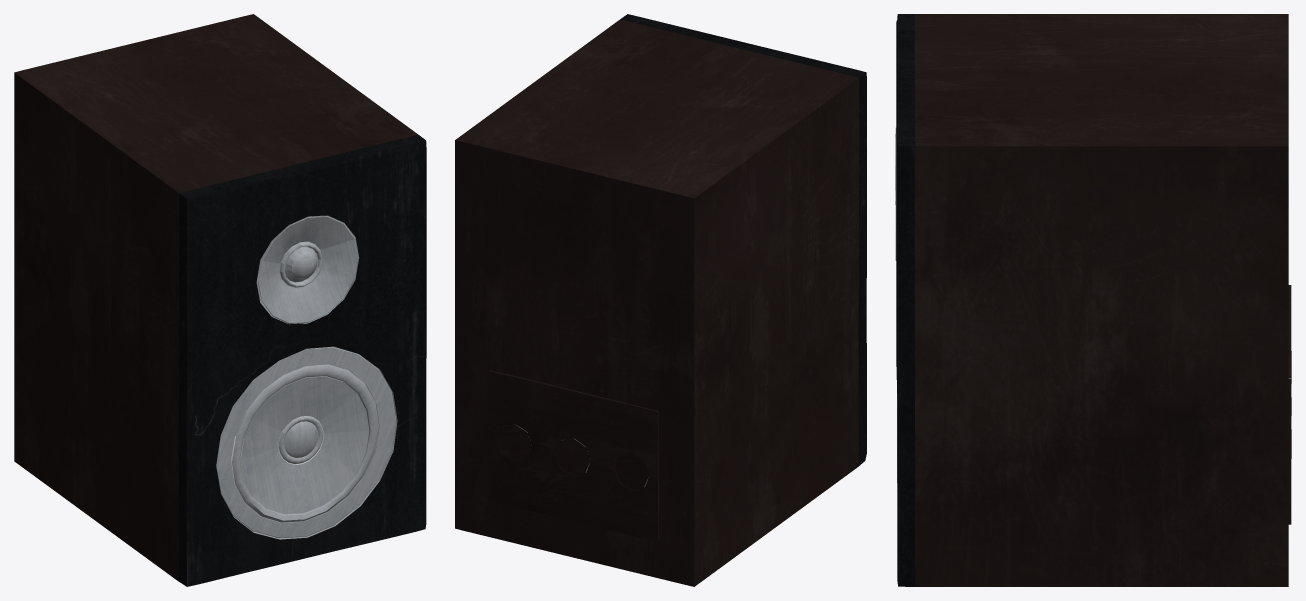
Rendered from Parlante 1.fbx.
The picture shows the model from 3 angles, left to right: view 1: azimuth 30°, elevation 25°; view 2: azimuth 150°, elevation 25°; view 3: azimuth 270°, elevation 25°; orthographic projection. The views are drawn at different scales.
Parts seen in each view (by area): view 1: loudspeaker; view 2: loudspeaker; view 3: loudspeaker.
Part boxes in pixels (x1,y1,x2,y2): loudspeaker: [14, 14, 426, 586]; loudspeaker: [455, 14, 866, 586]; loudspeaker: [895, 14, 1291, 586].
Bounding box in the file's own units: 2451 × 3804 × 3100.
